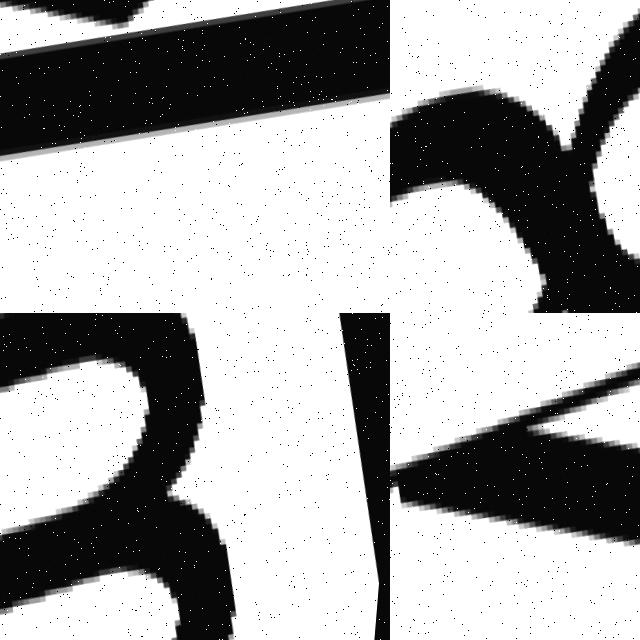8: (390, 0, 640, 313)
K: (0, 0, 390, 249)
M: (0, 313, 325, 640)
Y: (390, 313, 640, 640)
